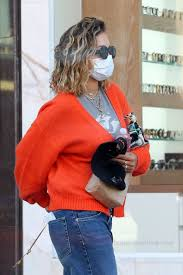mask: (56, 19, 118, 85)
